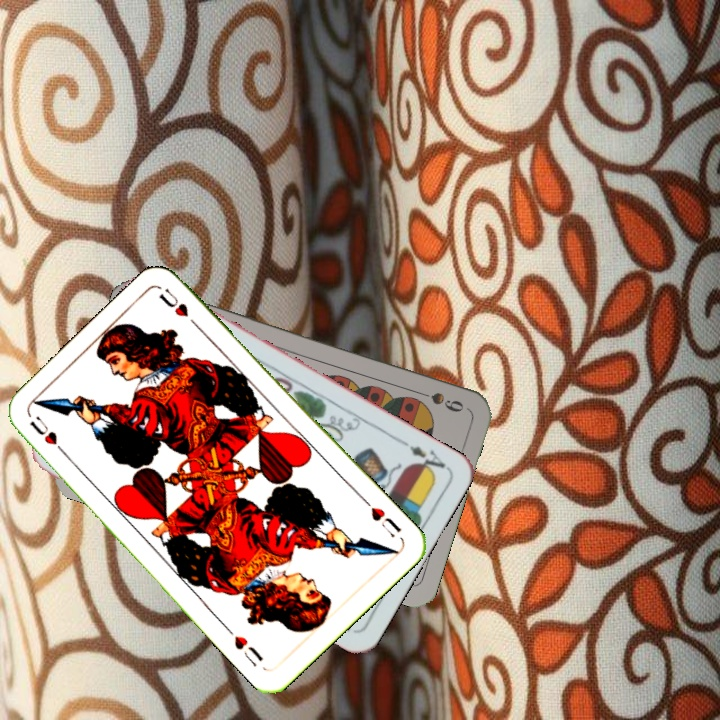EA: (396, 435, 448, 478)
HU: (25, 412, 70, 460), (359, 495, 404, 540)
S9: (410, 386, 466, 415)
